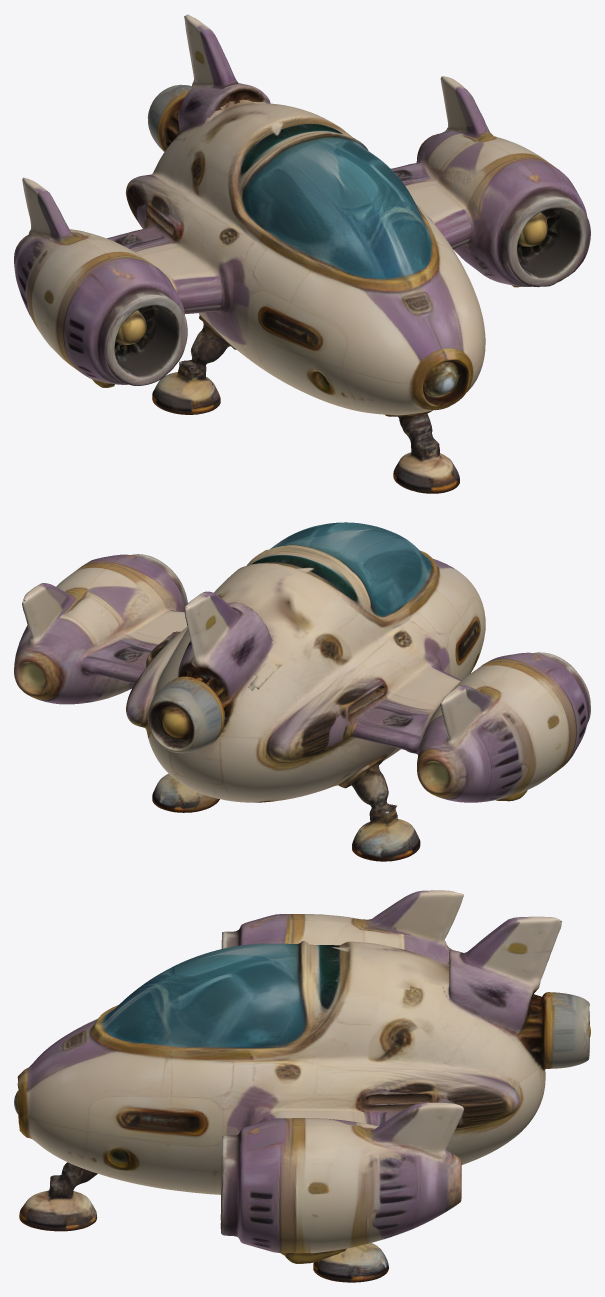
File: star-skiff.glb
3 renders of one model, top to bottom at view 1: azimuth 30°, elevation 25°; view 2: azimuth 150°, elevation 25°; view 3: azimuth 270°, elevation 25°, orthographic. The views are drawn at different scales.
Parts seen in each view (by area): view 1: model; view 2: model; view 3: model.
Boxes of the visible parts, x1,y1,x2,y2 form: model: (14, 14, 590, 493); model: (14, 522, 590, 861); model: (14, 890, 590, 1282).
Bounding box in the file's own units: 1.9 × 1.02 × 1.78.
1 material, 1 textured.
